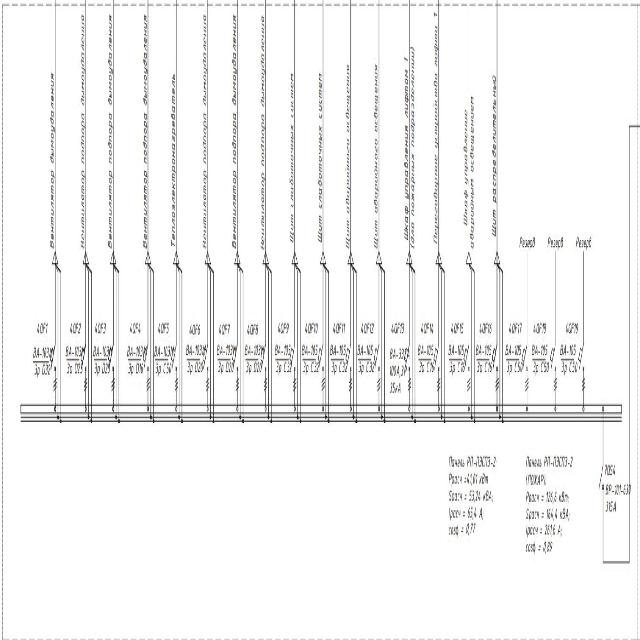-: (388, 344, 409, 395), (605, 482, 631, 514), (556, 341, 578, 374), (528, 343, 550, 376), (444, 342, 466, 374), (272, 343, 293, 376), (185, 341, 206, 374), (32, 344, 53, 377), (415, 342, 436, 374), (300, 342, 321, 374), (327, 341, 348, 373), (502, 343, 523, 375), (154, 343, 175, 375), (90, 344, 111, 376), (216, 343, 237, 375), (125, 343, 146, 375), (354, 342, 375, 374), (243, 342, 264, 374), (62, 344, 82, 377), (472, 343, 492, 375), (465, 452, 497, 469)
QF: (230, 339, 239, 374), (49, 342, 58, 377), (373, 342, 382, 377), (79, 340, 88, 374), (317, 340, 326, 374), (402, 343, 411, 377), (288, 341, 297, 375), (432, 340, 441, 374), (463, 342, 472, 376), (490, 342, 499, 376), (548, 340, 557, 374), (259, 341, 268, 375), (577, 340, 586, 374), (201, 340, 210, 374), (522, 342, 530, 377), (345, 340, 353, 374), (142, 341, 150, 375), (107, 340, 115, 374), (170, 343, 178, 376)
QS: (598, 464, 605, 494)
